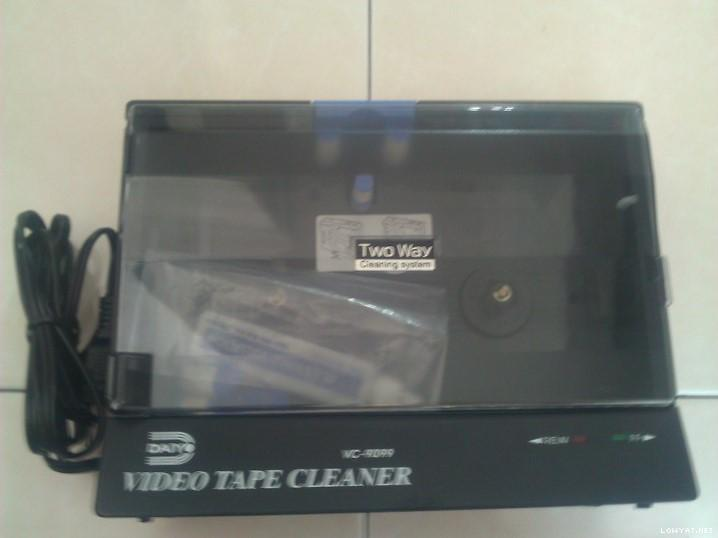Nonrec_Other: (66, 81, 708, 505)
